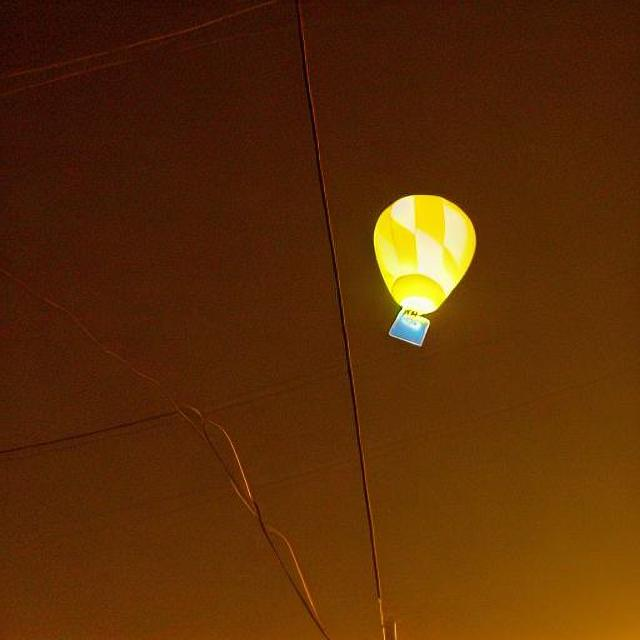balloon: (366, 190, 477, 338)
floating object: (187, 392, 328, 626), (370, 192, 478, 344)
